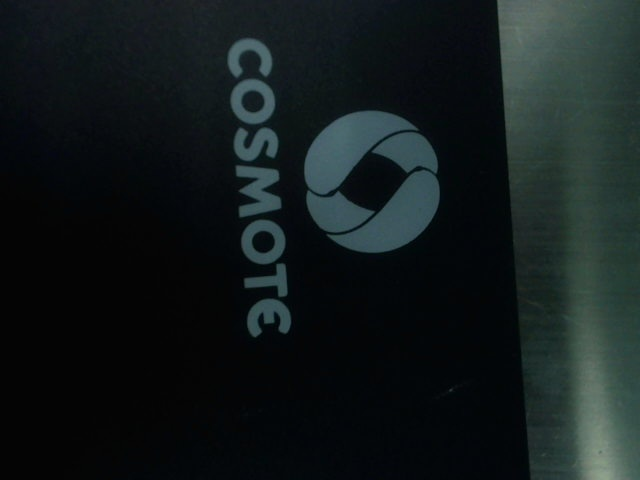AU_COSMOTE: (211, 35, 441, 352)
